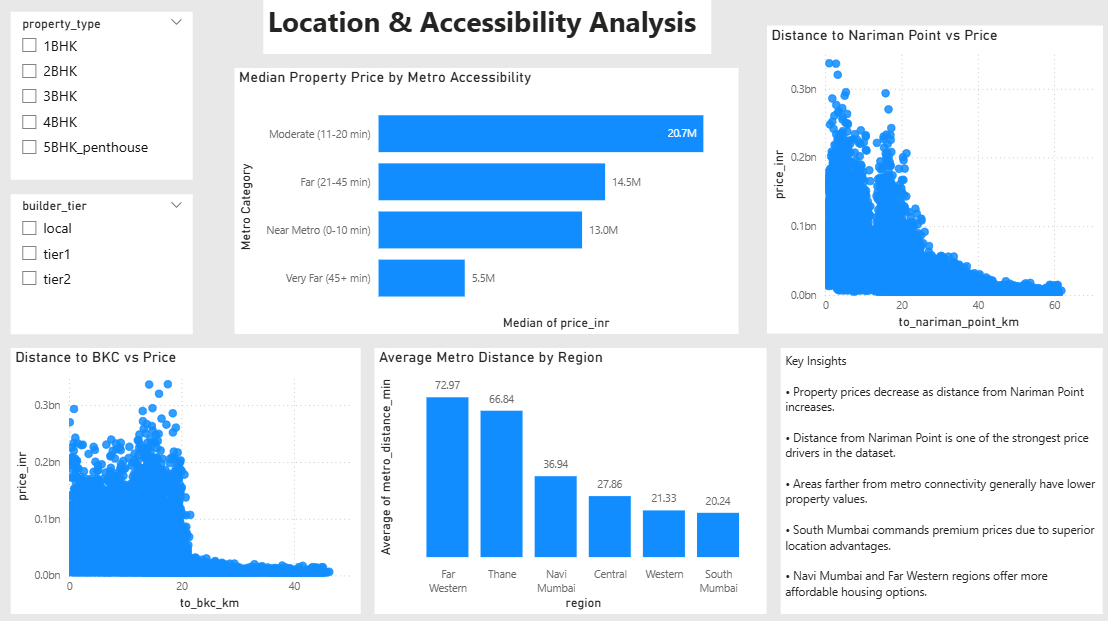

This screenshot's page, from the dashboard's own definition file:
{"tool":"powerbi","page":{"name":"Location & Accessibility Analysis","canvas":[1280,720],"ordinal":2},"visuals":[{"type":"scatterChart","title":"Distance to Nariman Point vs Price","fields":{"Y":["mumbai_real_estate_dashboard.price_inr"],"X":["mumbai_real_estate_dashboard.to_nariman_point_km"]},"box":[880,32,384,352],"z":0},{"type":"scatterChart","title":"Distance to BKC vs Price","fields":{"X":["mumbai_real_estate_dashboard.to_bkc_km"],"Y":["mumbai_real_estate_dashboard.price_inr"]},"box":[16,400,400,304],"z":1},{"type":"clusteredBarChart","title":"Median Property Price by Metro Accessibility","fields":{"Y":["Median(mumbai_real_estate_dashboard.price_inr)"],"Category":["mumbai_real_estate_dashboard.Metro Category"]},"box":[272,80,576,304],"z":2},{"type":"columnChart","title":"Average Metro Distance by Region","fields":{"Category":["mumbai_real_estate_dashboard.region"],"Y":["Avg(mumbai_real_estate_dashboard.metro_distance_min)"]},"box":[432,400,448,304],"z":3},{"type":"textbox","box":[896,400,368,304],"z":4},{"type":"slicer","fields":{"Values":["mumbai_real_estate_dashboard.property_type"]},"box":[16,16,208,192],"z":5},{"type":"slicer","fields":{"Values":["mumbai_real_estate_dashboard.builder_tier"]},"box":[16,224,208,160],"z":6},{"type":"textbox","box":[304,0,512,64],"z":7}]}

Visuals, with their boxes in screenshot pixels (x1, y1, x2, y2), scaled from the page's 1280x720 canvas onto the 1108x621 screenshot:
"Distance to Nariman Point vs Price" scatterChart: l=762, t=28, r=1094, b=331
"Distance to BKC vs Price" scatterChart: l=14, t=345, r=360, b=607
"Median Property Price by Metro Accessibility" clusteredBarChart: l=235, t=69, r=734, b=331
"Average Metro Distance by Region" columnChart: l=374, t=345, r=762, b=607
textbox: l=776, t=345, r=1094, b=607
slicer - mumbai_real_estate_dashboard.property_type: l=14, t=14, r=194, b=179
slicer - mumbai_real_estate_dashboard.builder_tier: l=14, t=193, r=194, b=331
textbox: l=263, t=0, r=706, b=55
